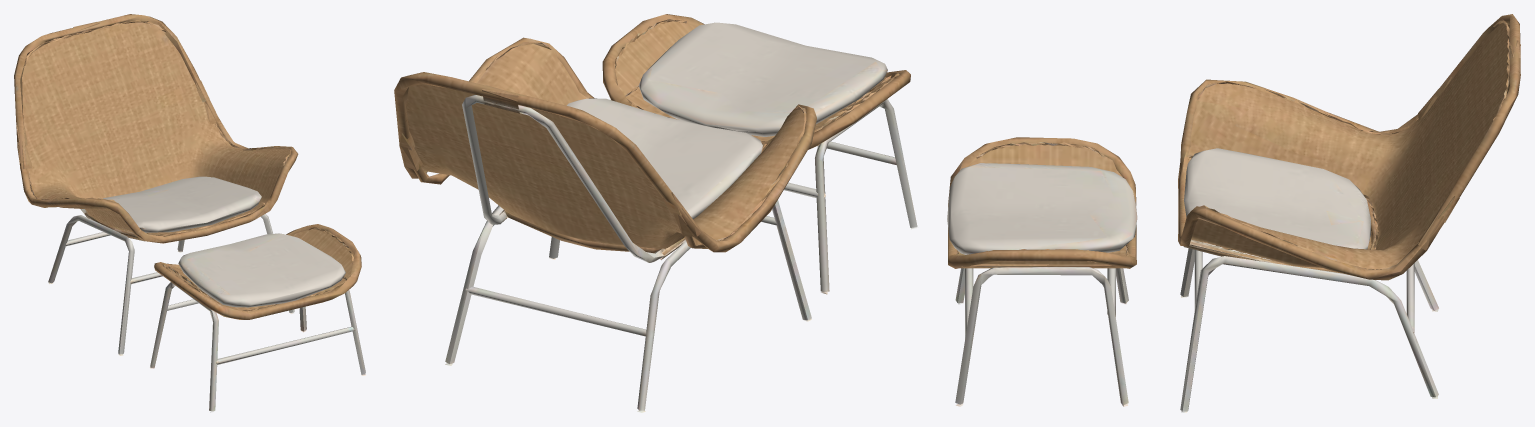
The picture shows the model from 3 angles, left to right: view 1: azimuth 30°, elevation 25°; view 2: azimuth 150°, elevation 25°; view 3: azimuth 270°, elevation 25°; orthographic projection. The views are drawn at different scales.
Parts seen in each view (by area): view 1: Mesh_0; view 2: Mesh_0; view 3: Mesh_0.
Boxes of the visible parts, x1,y1,x2,y2 form: Mesh_0: [14, 14, 365, 412]; Mesh_0: [394, 14, 918, 412]; Mesh_0: [947, 14, 1520, 412].
Bounding box in the file's own units: 0.89 × 0.8386 × 1.42.
1 material, 1 textured.
